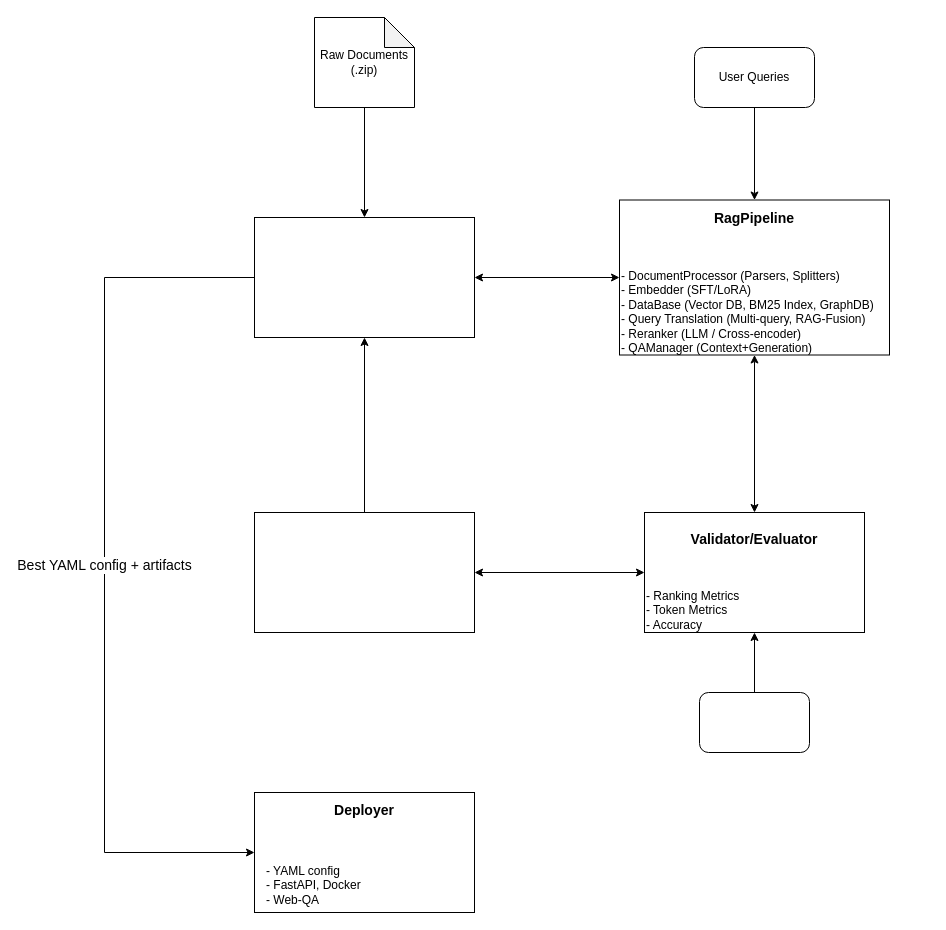
The diagram is 946 pixels wide and 930 high, and some of its shapes have lost their labels. Each missing label, with the centre of its shape:
human feedback: the point at 754,722
RagFactory (Orchestrator): the point at 364,277
RL-Optimizer: the point at 364,572
